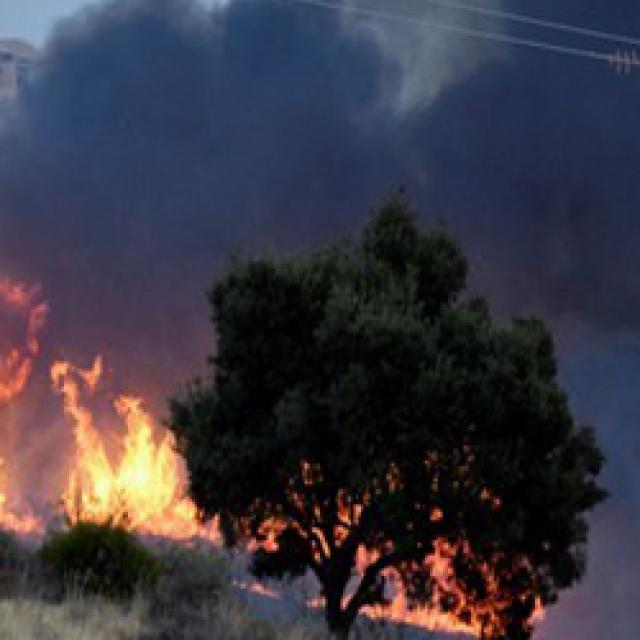Fire: (0, 266, 285, 570), (291, 485, 562, 640)
Smoke: (0, 0, 640, 317), (520, 292, 640, 628)
